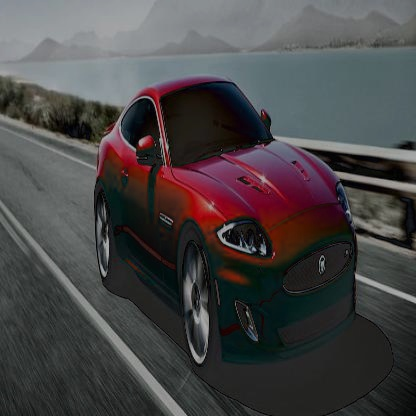Vehicle: (79, 68, 377, 394)
